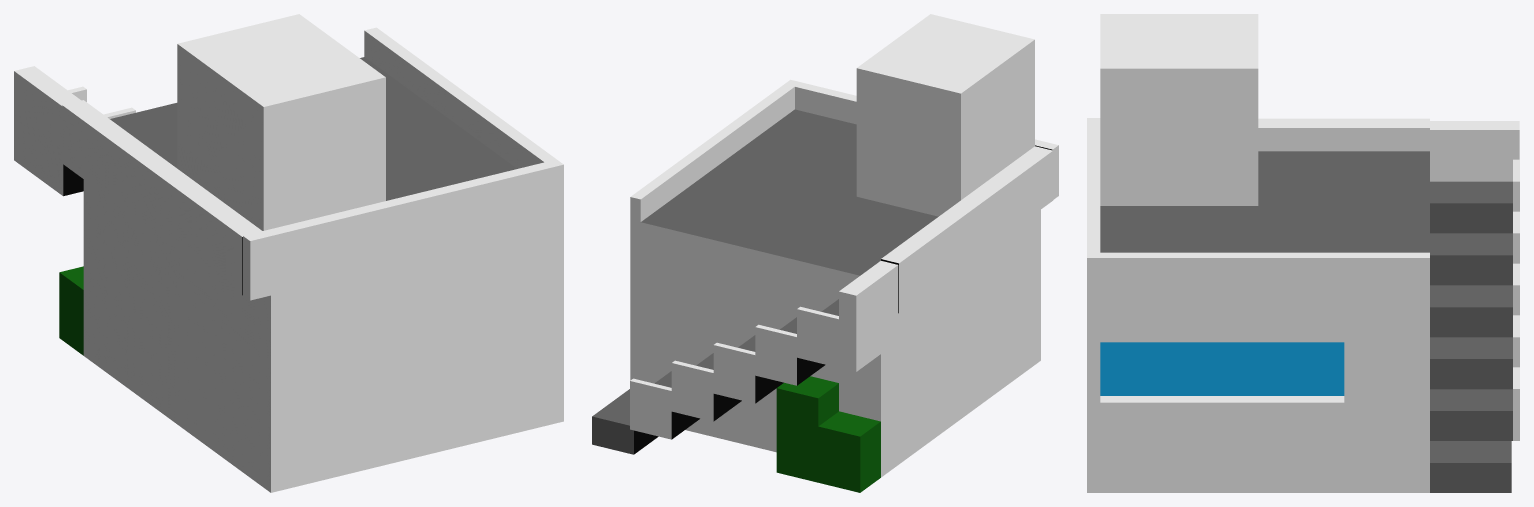
Rendered from house3.fbx.
3 renders of one model, left to right at view 1: azimuth 30°, elevation 25°; view 2: azimuth 150°, elevation 25°; view 3: azimuth 270°, elevation 25°, orthographic. The views are drawn at different scales.
Parts seen in each view (by area): view 1: Cube; view 2: Cube; view 3: Cube.
Part boxes in pixels (x1=…): Cube: x1=14, y1=14, x2=563, y2=492; Cube: x1=592, y1=14, x2=1058, y2=492; Cube: x1=1087, y1=14, x2=1519, y2=492.
Bounding box in the file's own units: 12.53 × 14.5 × 16.33.
1 material, 1 textured.
